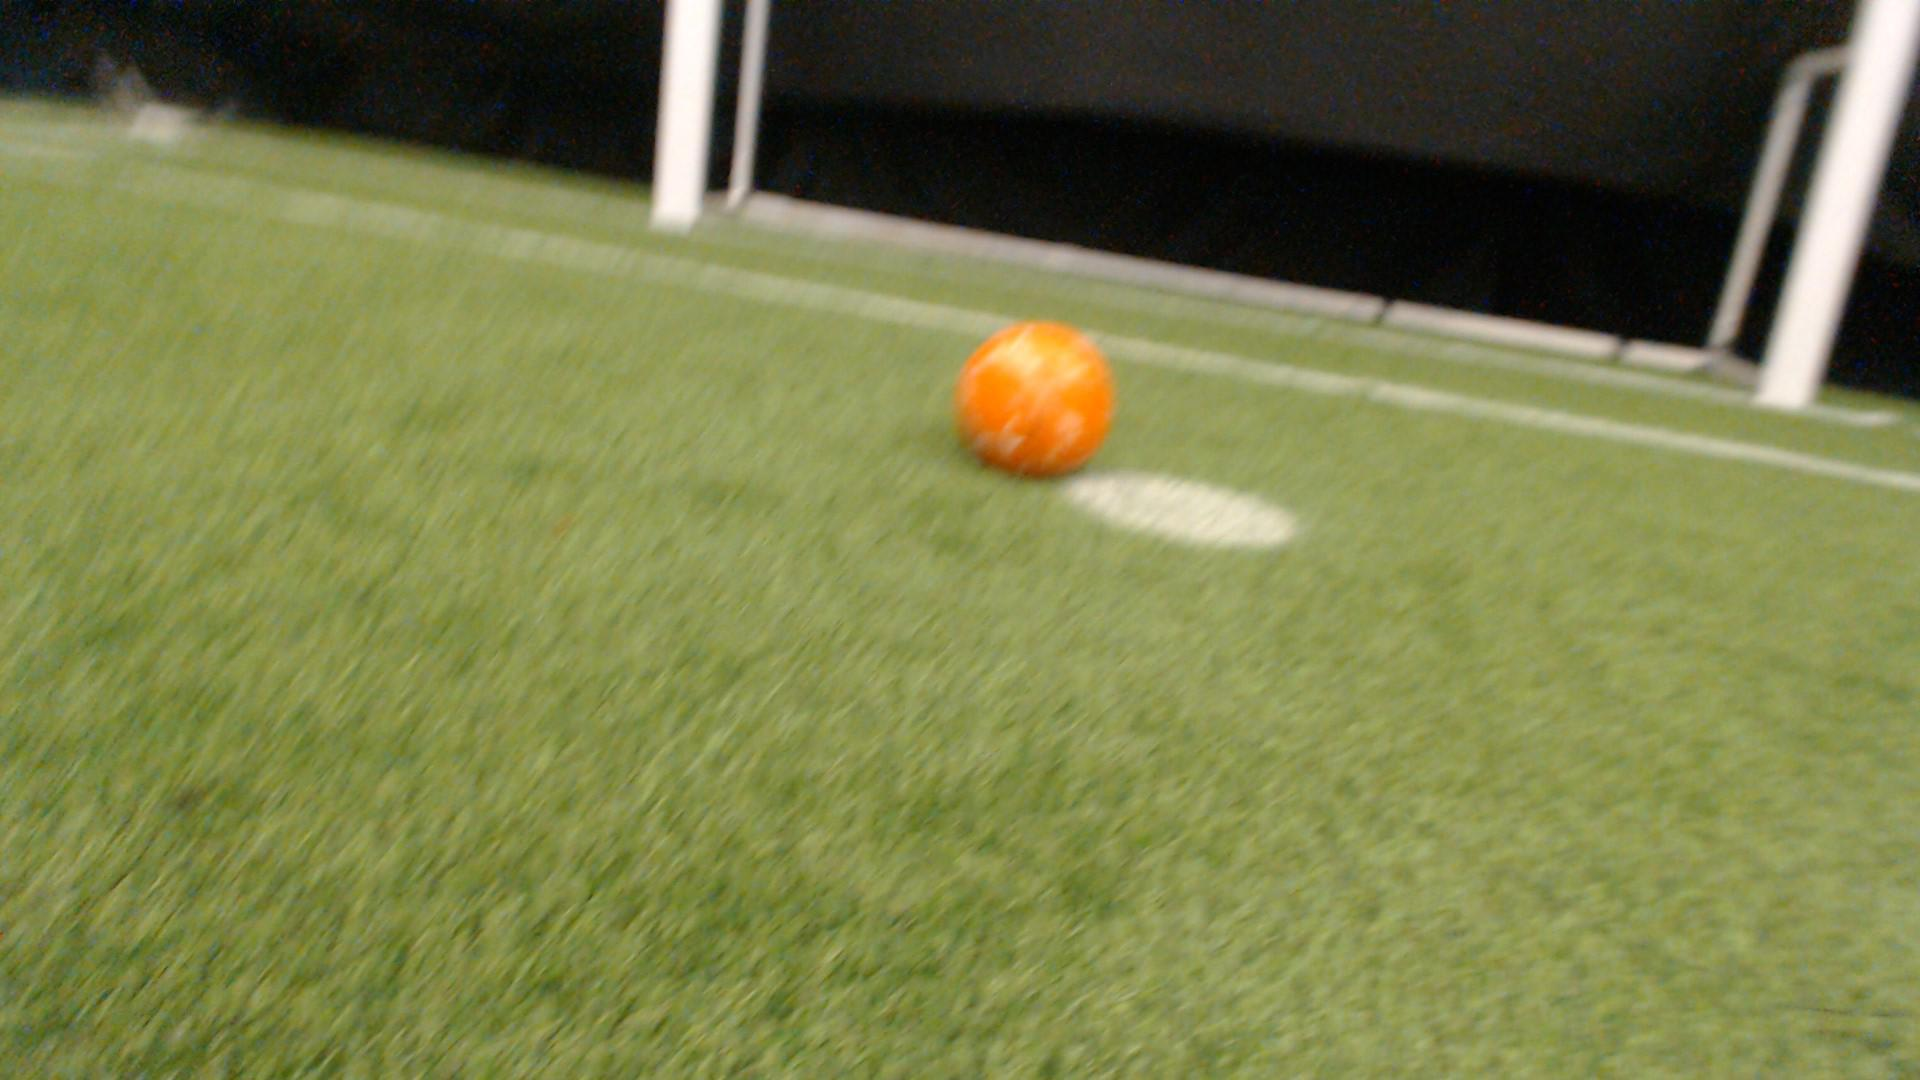bola: (942, 313, 1127, 484)
